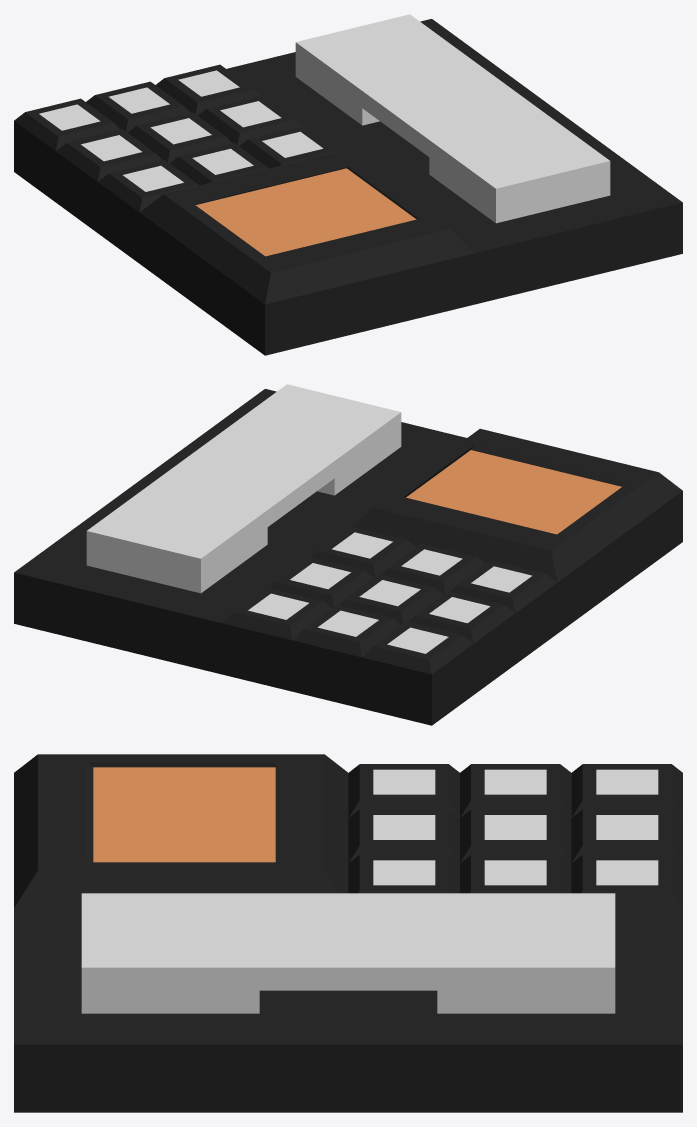
Rendered from Phone_000.glb.
3 views of the same model, one above another, from view 1: azimuth 30°, elevation 25°; view 2: azimuth 150°, elevation 25°; view 3: azimuth 270°, elevation 25° (orthographic). The views are drawn at different scales.
Visible parts, largest first — view 1: Phone; view 2: Phone; view 3: Phone.
Boxes of the visible parts, x1=… form: Phone: x1=14, y1=14, x2=682, y2=355; Phone: x1=14, y1=384, x2=682, y2=725; Phone: x1=14, y1=754, x2=682, y2=1112.
Size of the model in its own units: 0.2791 by 0.0548 by 0.2904.
